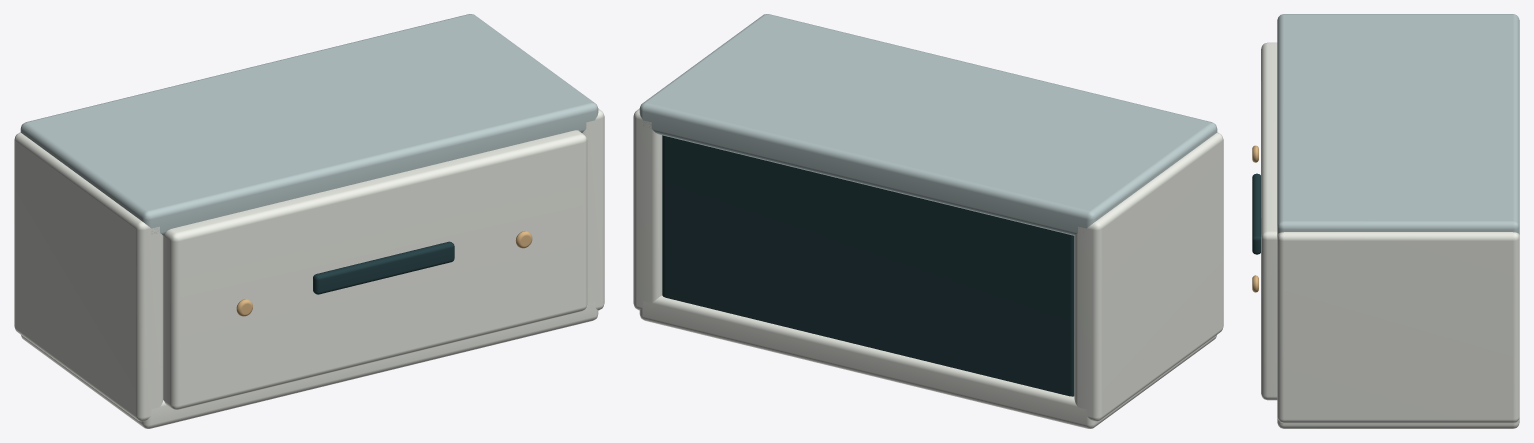
The model's file is plinth-cache.glb.
The picture shows the model from 3 angles, left to right: view 1: azimuth 30°, elevation 25°; view 2: azimuth 150°, elevation 25°; view 3: azimuth 270°, elevation 25°; orthographic projection. The views are drawn at different scales.
Parts seen in each view (by area): view 1: Flush ceramic fascia, Upper bezel, Side rail, Lower bezel, Side rail.001, Recessed handle; view 2: Upper bezel, Recess backing, Side rail, Lower bezel, Side rail.001; view 3: Upper bezel, Side rail.001, Flush ceramic fascia, Lower bezel, Recessed handle.
Part boxes in pixels (x1,y1,x2,y2): Flush ceramic fascia: [163, 130, 587, 409]; Upper bezel: [20, 14, 598, 235]; Side rail: [14, 132, 163, 421]; Lower bezel: [21, 301, 598, 428]; Side rail.001: [582, 108, 604, 310]; Recessed handle: [313, 241, 454, 294]; Upper bezel: [639, 14, 1217, 235]; Recess backing: [662, 135, 1074, 396]; Side rail: [1074, 132, 1223, 421]; Lower bezel: [639, 295, 1216, 428]; Side rail.001: [633, 108, 662, 310]; Upper bezel: [1277, 14, 1519, 234]; Side rail.001: [1277, 232, 1519, 423]; Flush ceramic fascia: [1261, 42, 1277, 400]; Lower bezel: [1277, 417, 1519, 428]; Recessed handle: [1252, 173, 1260, 254].
Bounding box in the file's own units: 1.91 × 0.85 × 0.9925.
